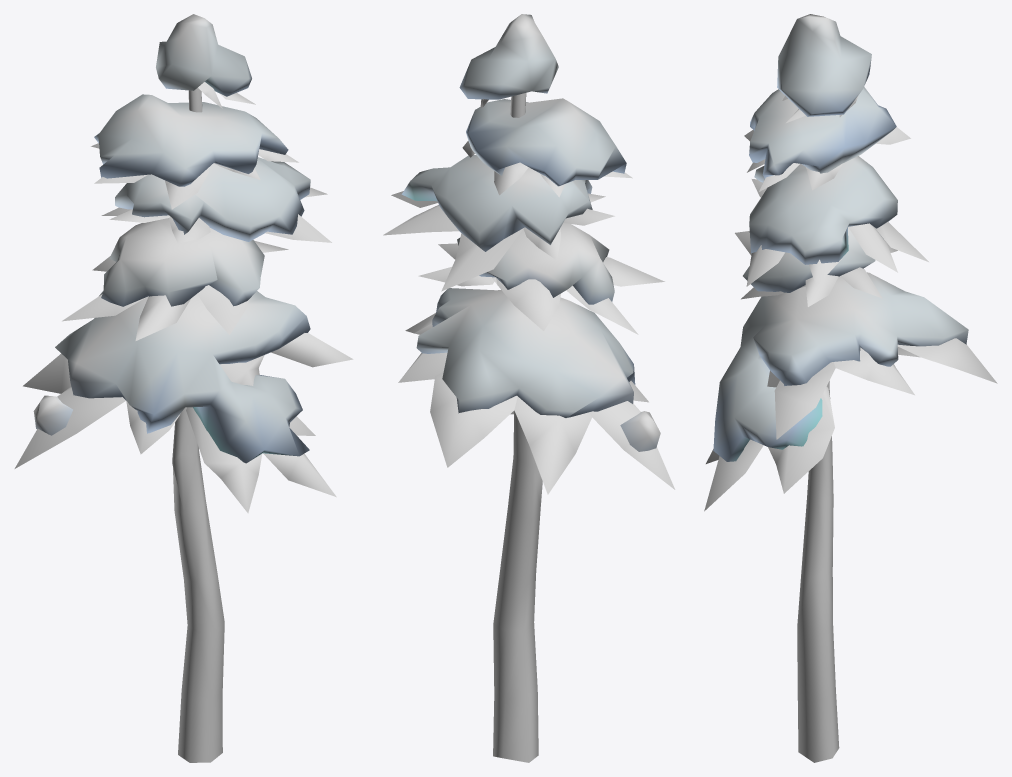
Rendered from SnowTreeSkinny.glb.
3 renders of one model, left to right at view 1: azimuth 30°, elevation 25°; view 2: azimuth 150°, elevation 25°; view 3: azimuth 270°, elevation 25°, orthographic.
Parts seen in each view (by area): view 1: SnowTreeSkinny; view 2: SnowTreeSkinny; view 3: SnowTreeSkinny.
Boxes of the visible parts, <box> form: SnowTreeSkinny: <box>14,14,353,762</box>; SnowTreeSkinny: <box>383,14,675,762</box>; SnowTreeSkinny: <box>704,14,997,762</box>.
Bounding box in the file's own units: 7.58 × 17.59 × 6.36.
